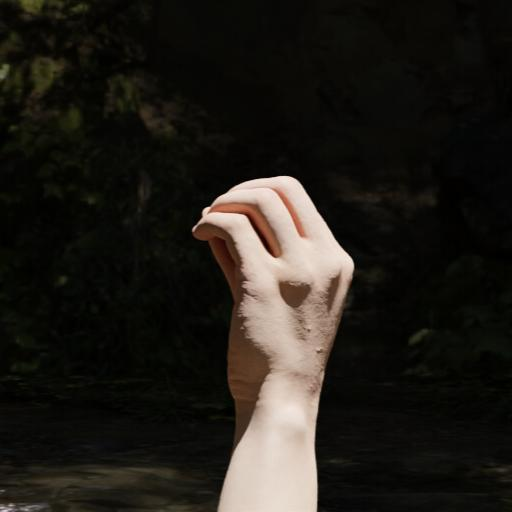O: (186, 154, 364, 428)
